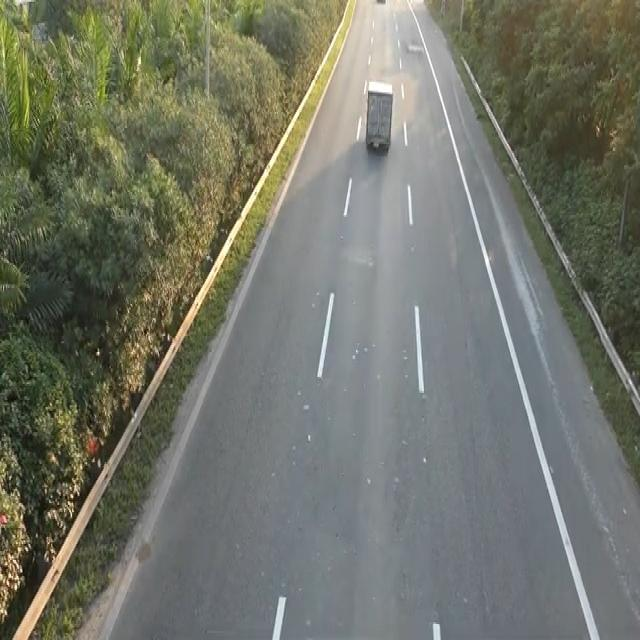minivan: (363, 76, 394, 154)
